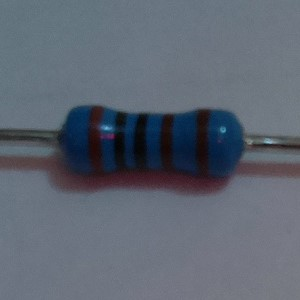black_band: (112, 108, 130, 174), (132, 109, 150, 174)
brown_band: (194, 107, 214, 179), (87, 104, 105, 177), (159, 112, 178, 173)
